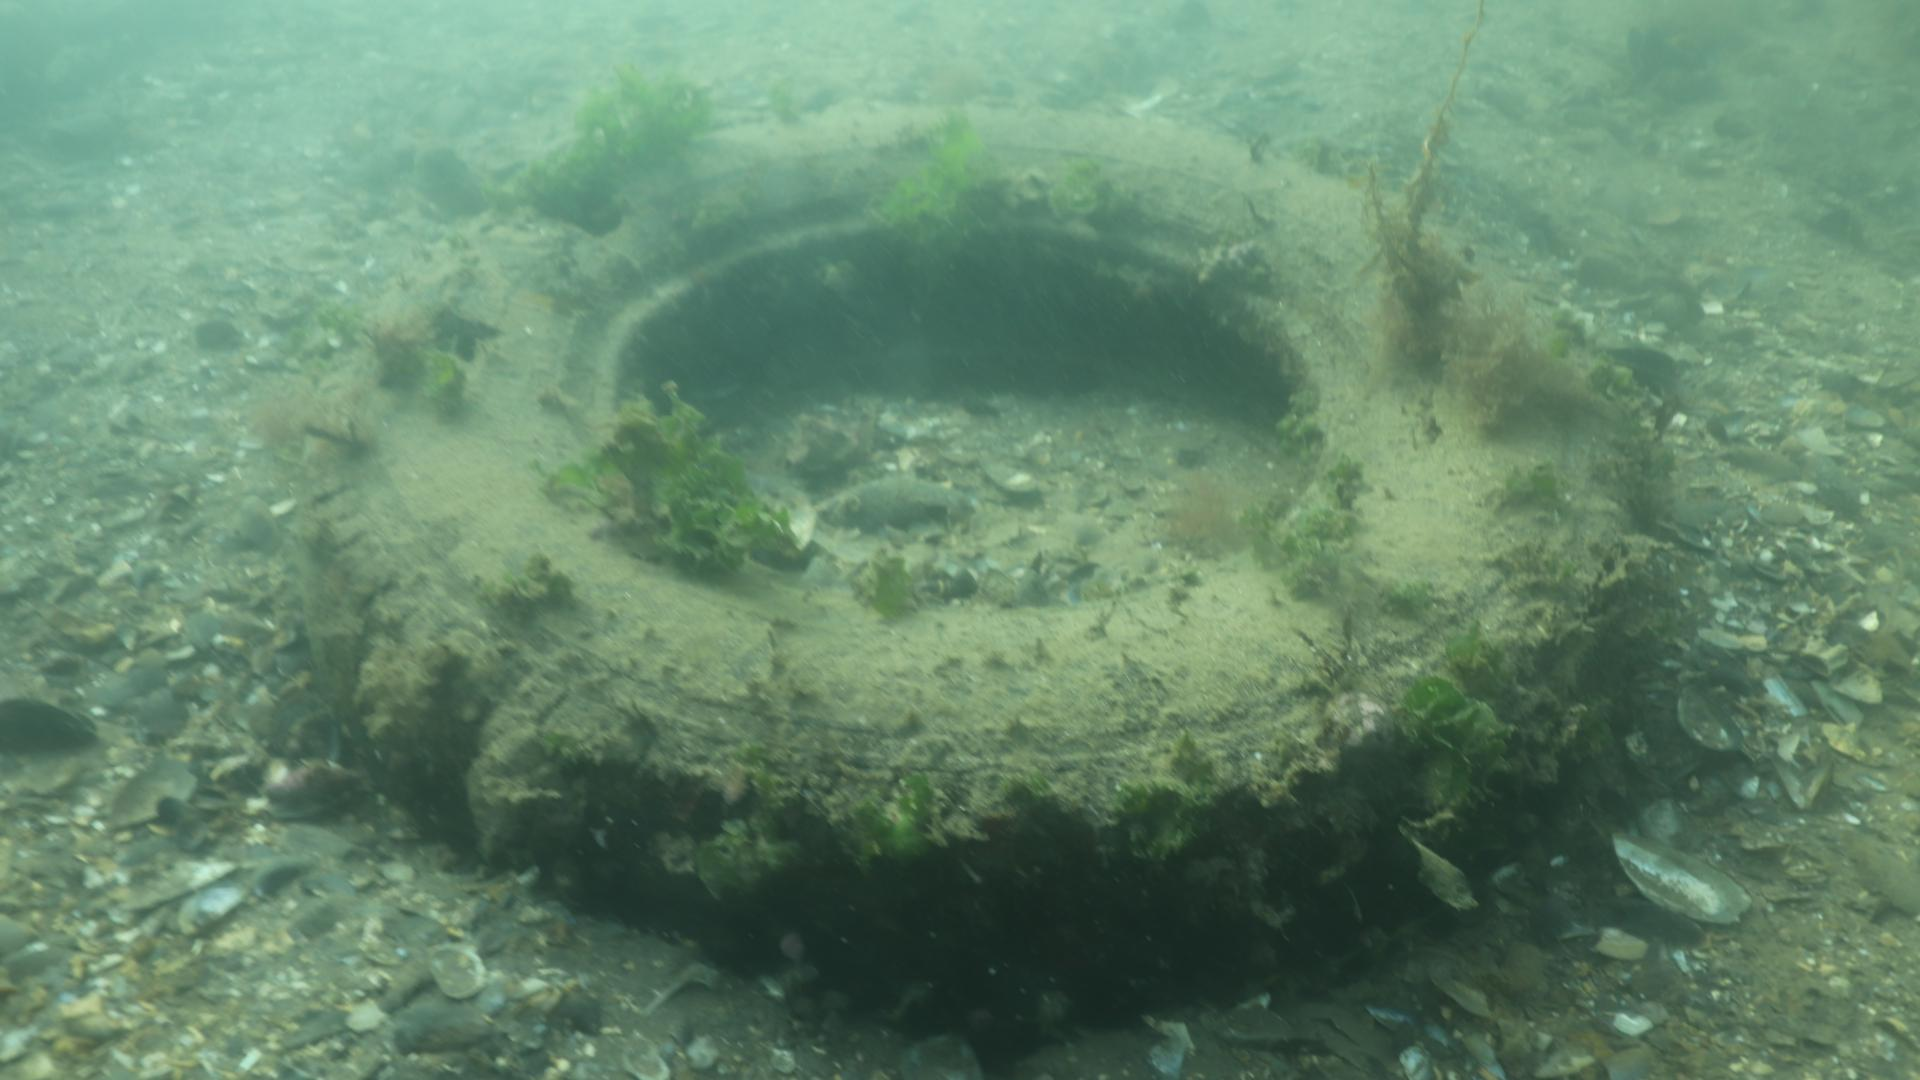tire: (306, 98, 1654, 1026)
